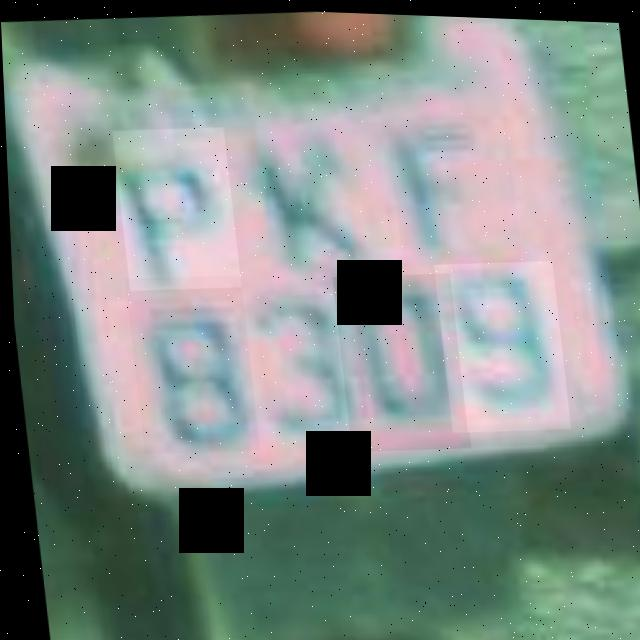0: (329, 266, 467, 453)
3: (217, 264, 371, 449)
8: (122, 269, 256, 456)
9: (431, 253, 569, 433)
F: (384, 107, 520, 266)
P: (110, 123, 239, 293)
